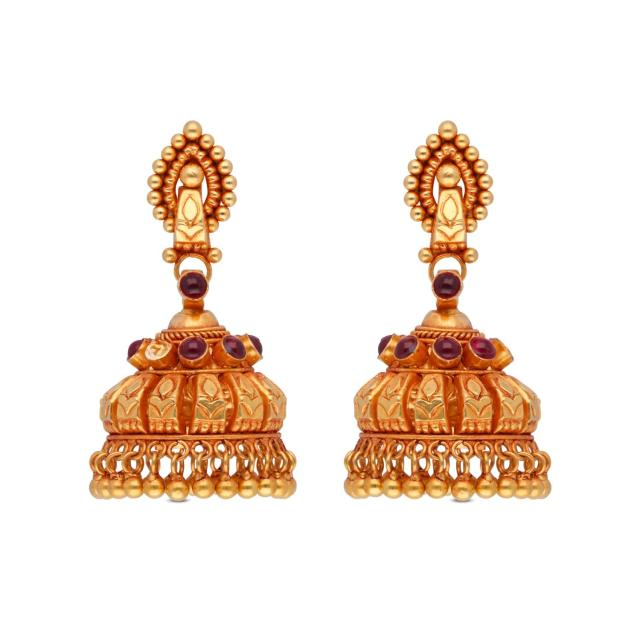missing gem: (146, 339, 171, 360), (496, 337, 515, 361)
